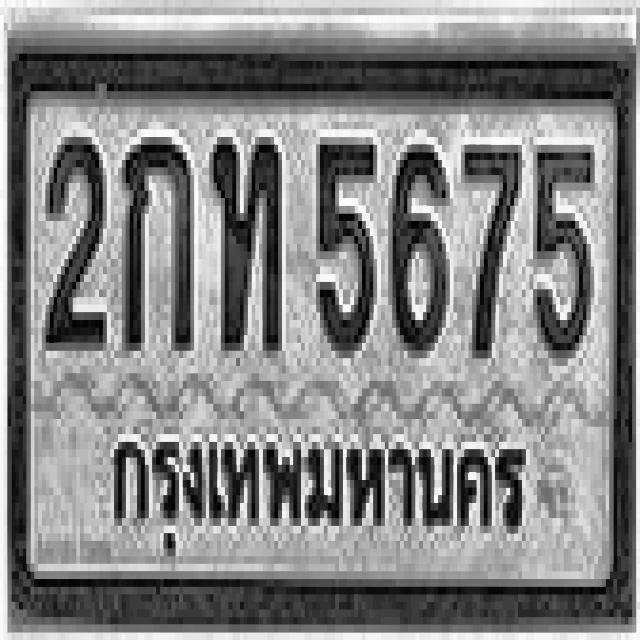license-plate: (10, 52, 630, 618)
